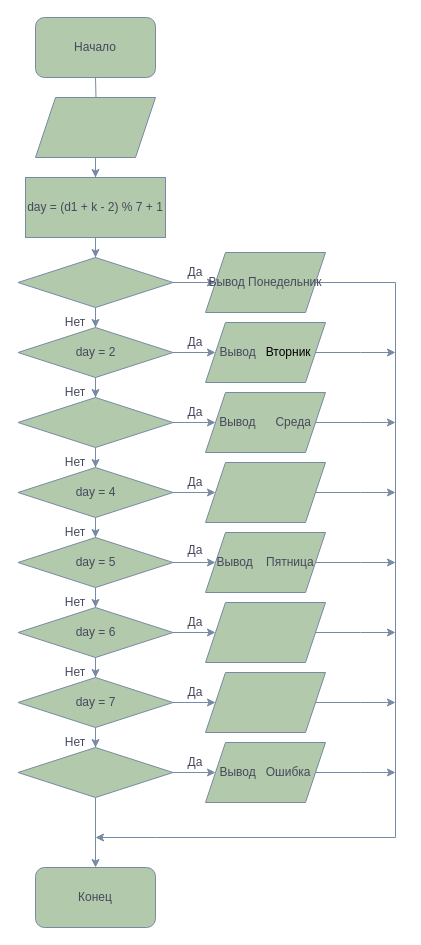
The diagram is 421 pixels wide and 945 high, and some of its shapes have lost their labels. The shapes that lost their labels are listed below. From the top down, each one's centre as x and y in pixels, then its label:
At (95,127): "Ввод k, d1".
At (95,282): "day = 1".
At (95,422): "day = 3".
At (265,492): "Вывод Четверг".
At (265,632): "Вывод Суббота".
At (265,702): "Вывод Воскресенье".
At (95,772): "default".
